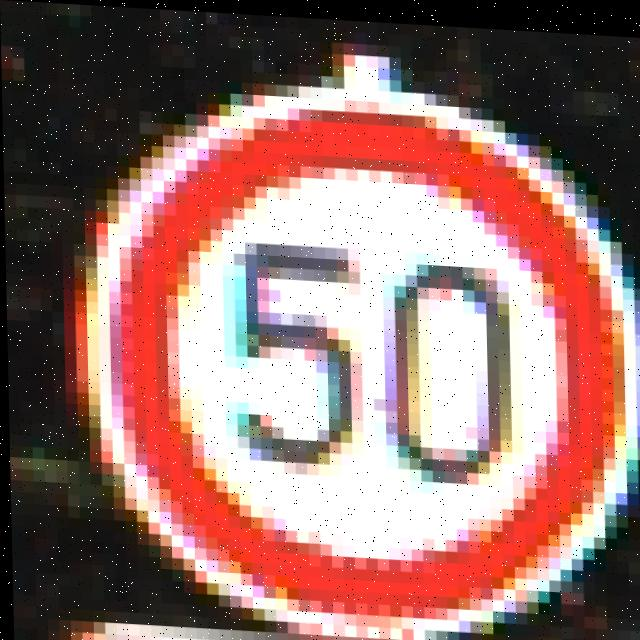speed_limit_50: (77, 89, 640, 640)
